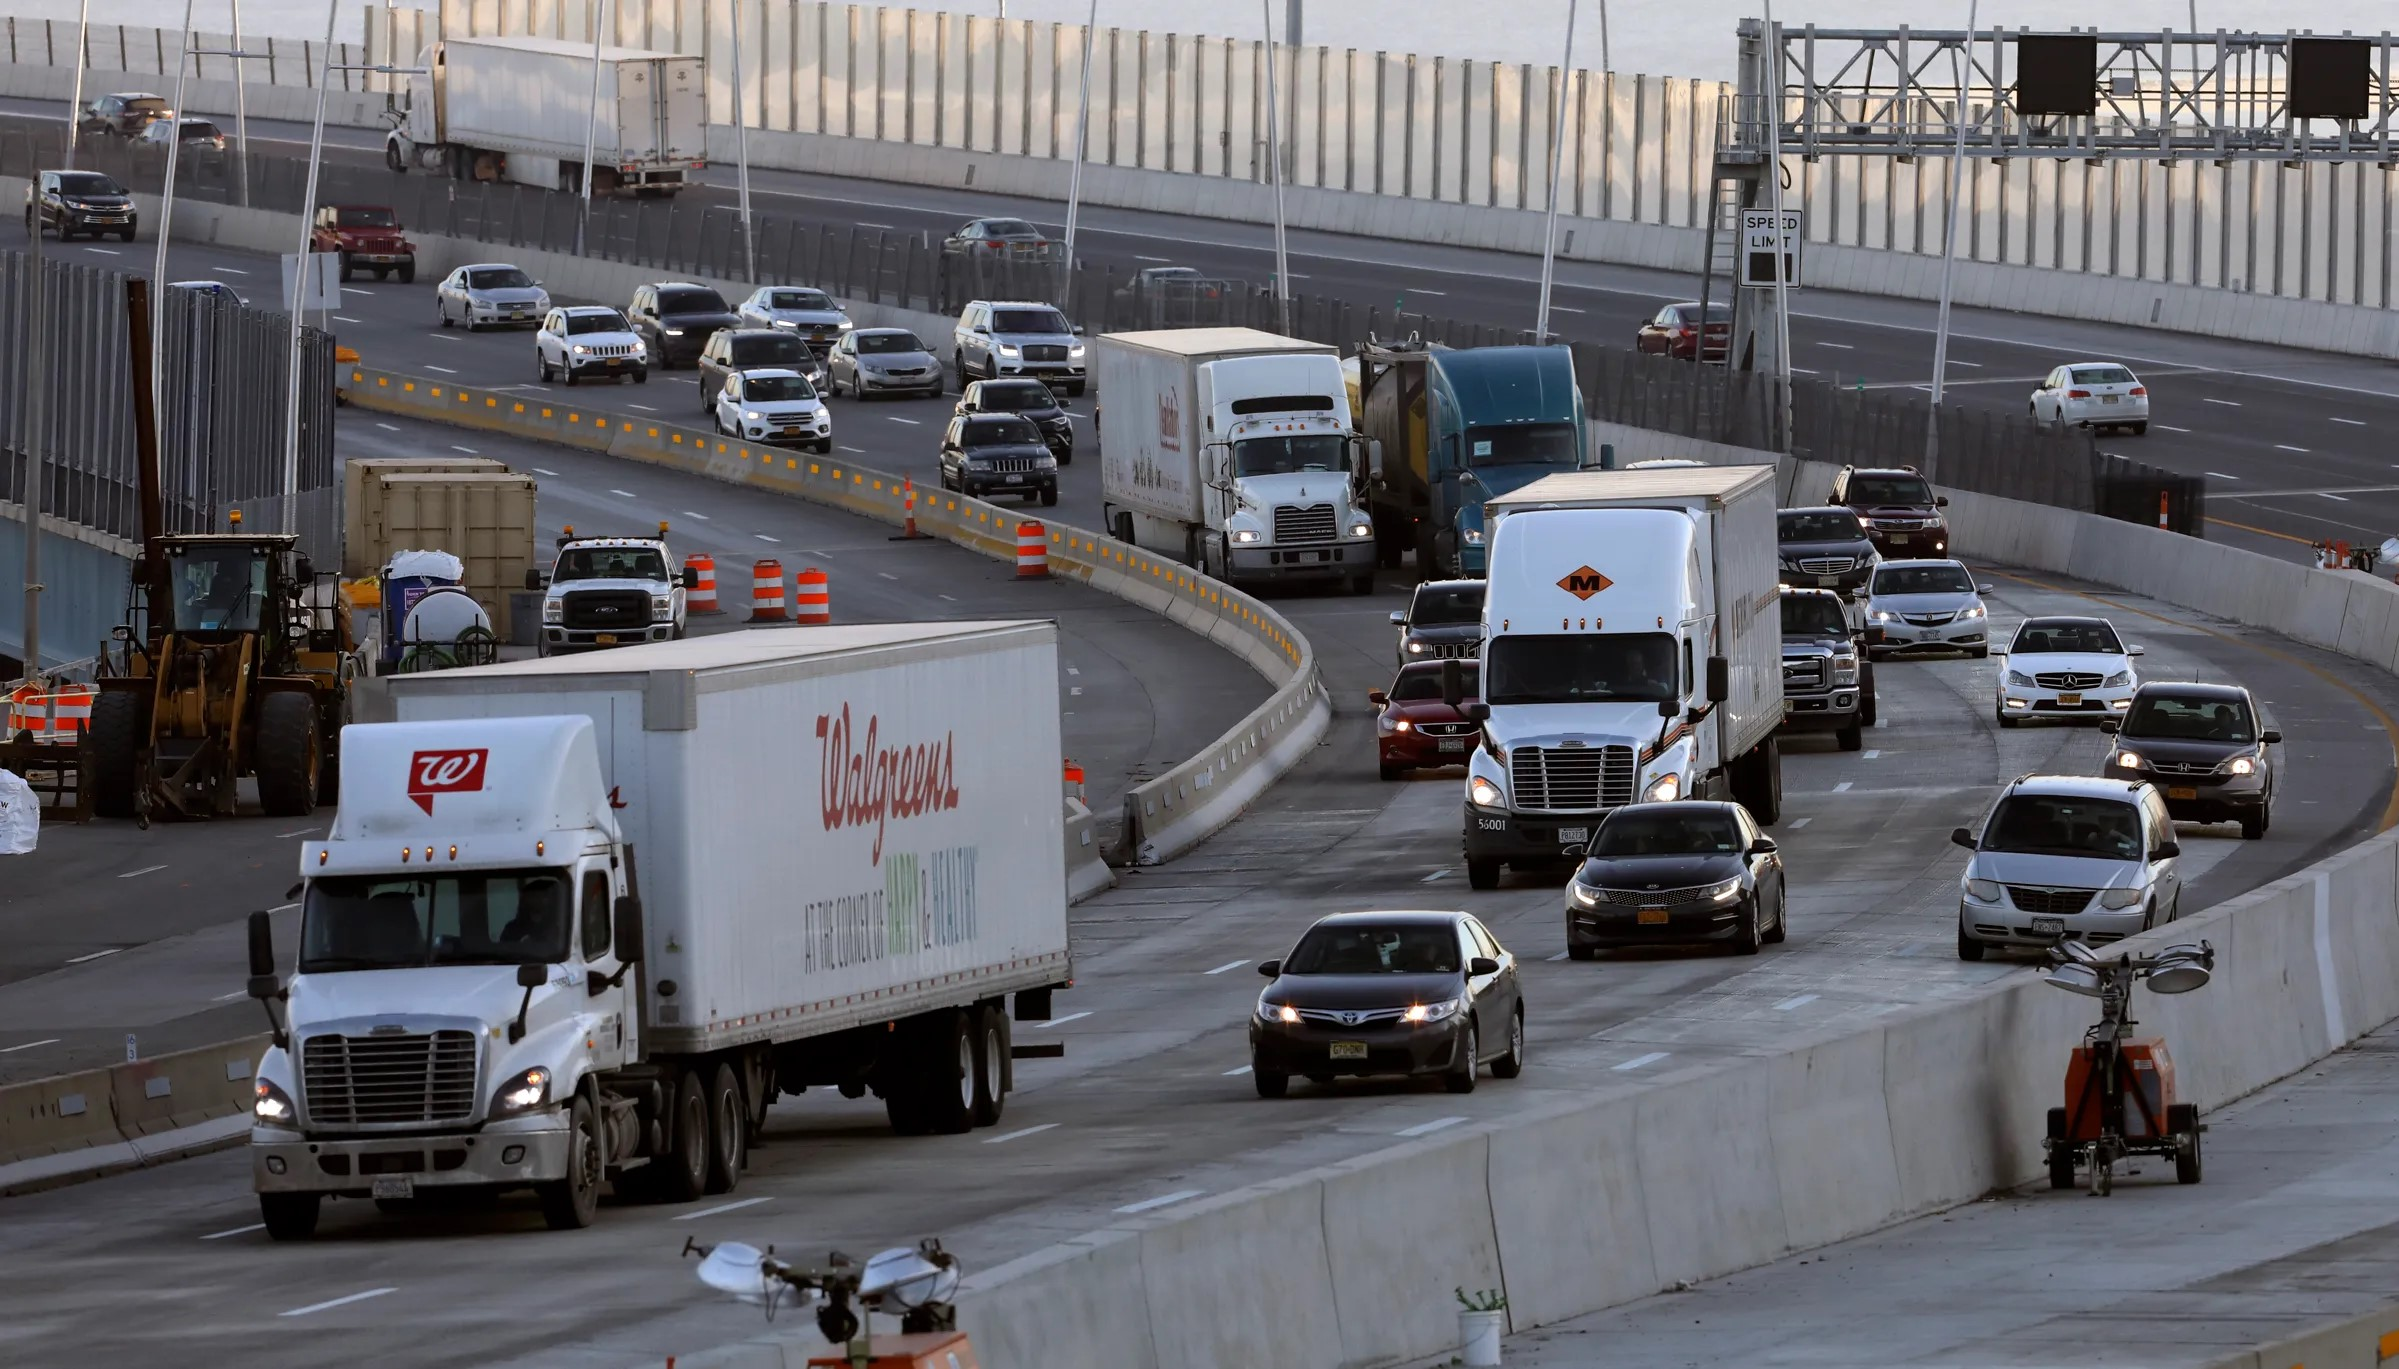HeavyVehicle: (227, 605, 1074, 1217), (1485, 470, 1799, 807), (1091, 318, 1381, 596), (79, 521, 333, 819), (386, 33, 717, 199)
LightVehicle: (1244, 909, 1531, 1102), (1565, 804, 1789, 959)
